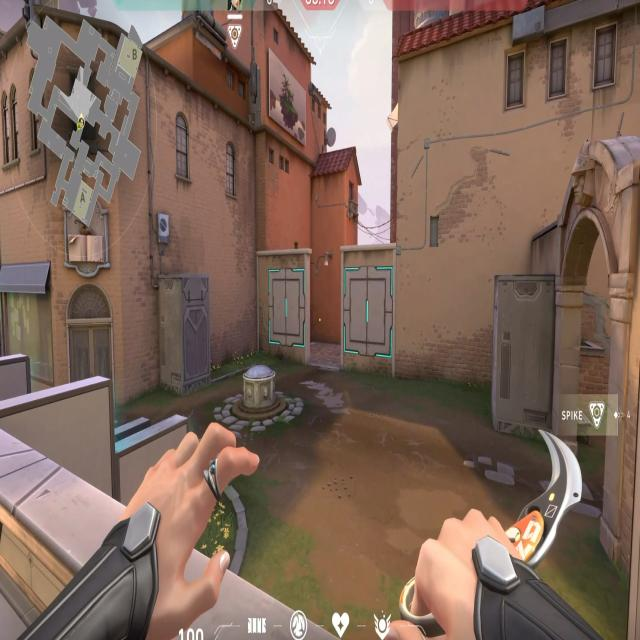Mid_Wall: (341, 243, 396, 374), (256, 249, 311, 365)
